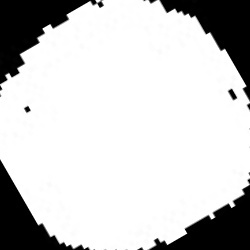spot: (0, 1, 249, 247)
